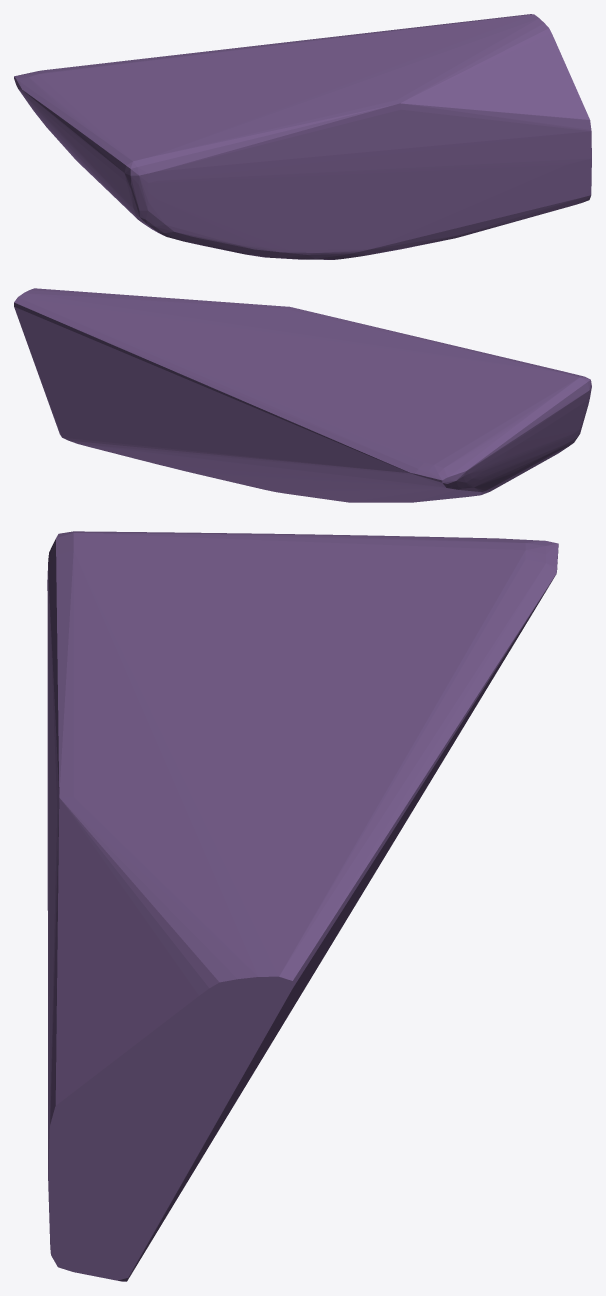
3 views of the same model, one above another, from view 1: azimuth 30°, elevation 25°; view 2: azimuth 150°, elevation 25°; view 3: azimuth 270°, elevation 25° (orthographic). The views are drawn at different scales.
Size of the model in its own units: 0.1559 by 0.051 by 0.0748.
